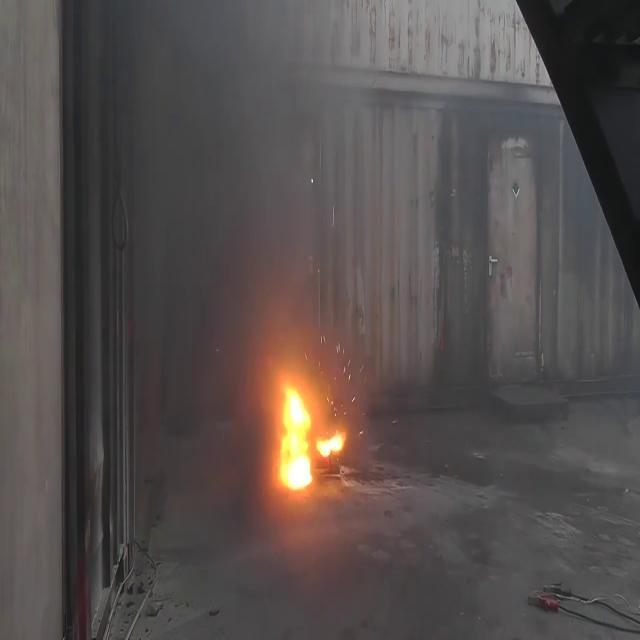Fire: (275, 372, 348, 493)
Smoke: (100, 0, 384, 372)
